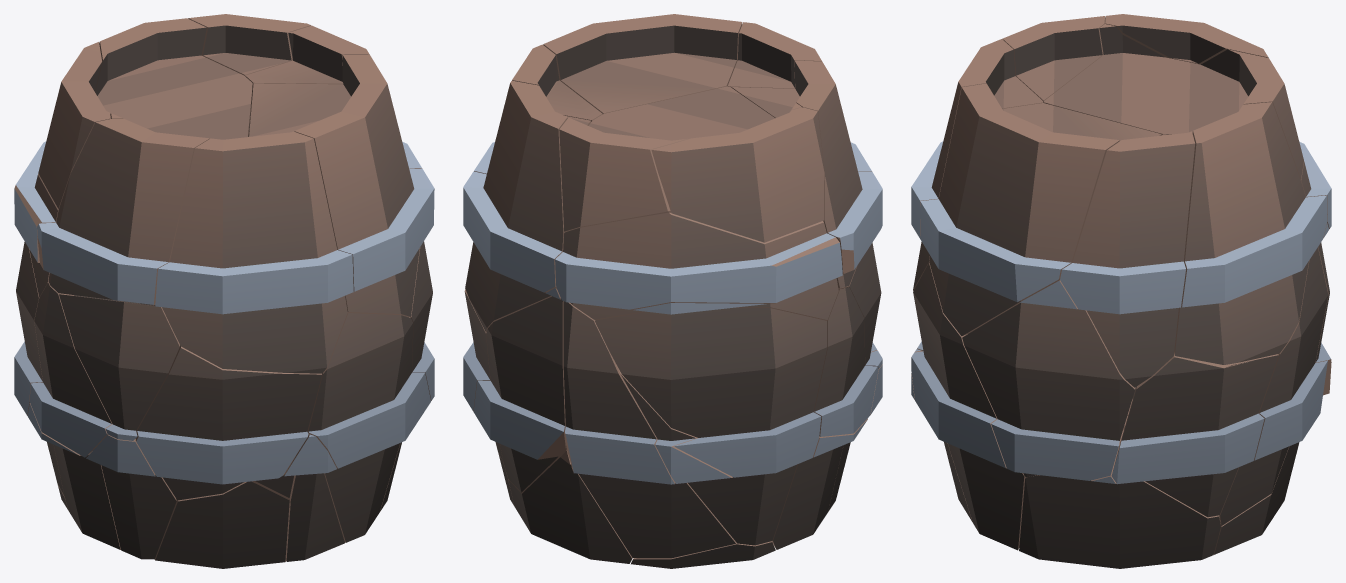
File: Barrel_Broken.fbx
3 renders of one model, left to right at view 1: azimuth 30°, elevation 25°; view 2: azimuth 150°, elevation 25°; view 3: azimuth 270°, elevation 25°, orthographic.
Parts seen in each view (by area): view 1: Barrel_Shard_03, Barrel_Shard_14, Barrel_Shard_13, Barrel_Shard_12, Barrel_Shard_21, Barrel_Shard_01, Barrel_Shard_16, Barrel_Shard_18, Barrel_Shard_23, Barrel_Shard_26, Barrel_Shard_07, Barrel_Shard_08 (+7 smaller); view 2: Barrel_Shard_05, Barrel_Shard_15, Barrel_Shard_06, Barrel_Shard_10, Barrel_Shard_07, Barrel_Shard_01, Barrel_Shard_14, Barrel_Shard_04, Barrel_Shard_13, Barrel_Shard_19, Barrel_Shard_09, Barrel_Shard_23 (+7 smaller); view 3: Barrel_Shard_14, Barrel_Shard_10, Barrel_Shard_02, Barrel_Shard_11, Barrel_Shard_17, Barrel_Shard_01, Barrel_Shard_24, Barrel_Shard_21, Barrel_Shard_04, Barrel_Shard_13, Barrel_Shard_03, Barrel_Shard_07 (+3 smaller).
Part boxes in pixels (x1=…): Barrel_Shard_03: x1=155, y1=131, x2=353, y2=373; Barrel_Shard_14: x1=249, y1=54, x2=434, y2=317; Barrel_Shard_13: x1=37, y1=118, x2=209, y2=304; Barrel_Shard_12: x1=135, y1=345, x2=321, y2=500; Barrel_Shard_21: x1=307, y1=313, x2=430, y2=542; Barrel_Shard_01: x1=95, y1=18, x2=252, y2=139; Barrel_Shard_16: x1=59, y1=294, x2=179, y2=440; Barrel_Shard_18: x1=154, y1=481, x2=290, y2=568; Barrel_Shard_23: x1=30, y1=283, x2=112, y2=457; Barrel_Shard_26: x1=86, y1=434, x2=176, y2=559; Barrel_Shard_07: x1=38, y1=42, x2=110, y2=208; Barrel_Shard_08: x1=284, y1=434, x2=344, y2=561; Barrel_Shard_05: x1=595, y1=303, x2=827, y2=477; Barrel_Shard_15: x1=555, y1=212, x2=842, y2=320; Barrel_Shard_06: x1=563, y1=301, x2=736, y2=558; Barrel_Shard_10: x1=463, y1=80, x2=591, y2=332; Barrel_Shard_07: x1=651, y1=107, x2=824, y2=242; Barrel_Shard_01: x1=559, y1=86, x2=801, y2=231; Barrel_Shard_14: x1=543, y1=14, x2=742, y2=113; Barrel_Shard_04: x1=473, y1=288, x2=566, y2=492; Barrel_Shard_13: x1=731, y1=60, x2=882, y2=288; Barrel_Shard_19: x1=613, y1=359, x2=797, y2=545; Barrel_Shard_09: x1=508, y1=446, x2=632, y2=563; Barrel_Shard_23: x1=813, y1=287, x2=878, y2=436; Barrel_Shard_14: x1=920, y1=83, x2=1161, y2=336; Barrel_Shard_10: x1=1174, y1=102, x2=1327, y2=364; Barrel_Shard_02: x1=1060, y1=131, x2=1195, y2=387; Barrel_Shard_11: x1=962, y1=280, x2=1135, y2=480; Barrel_Shard_17: x1=1111, y1=352, x2=1278, y2=517; Barrel_Shard_01: x1=1044, y1=24, x2=1303, y2=179; Barrel_Shard_24: x1=1019, y1=443, x2=1220, y2=568; Barrel_Shard_21: x1=911, y1=263, x2=1025, y2=550; Barrel_Shard_04: x1=1220, y1=223, x2=1329, y2=525; Barrel_Shard_13: x1=1002, y1=16, x2=1105, y2=102; Barrel_Shard_03: x1=911, y1=39, x2=1043, y2=290; Barrel_Shard_07: x1=1105, y1=14, x2=1268, y2=64.
Bounding box in the file's own units: 77.68 × 85.25 × 77.68.
